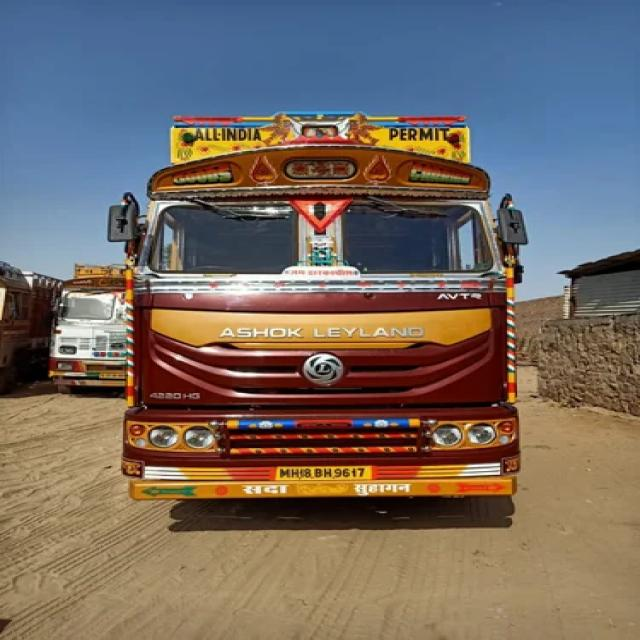Plate: (273, 464, 372, 482)
truck: (111, 91, 533, 531)
